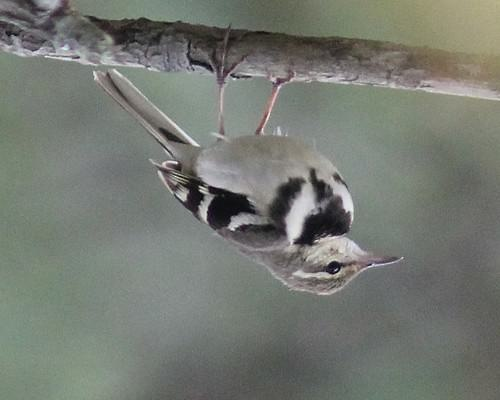wagtail: (115, 46, 425, 303)
